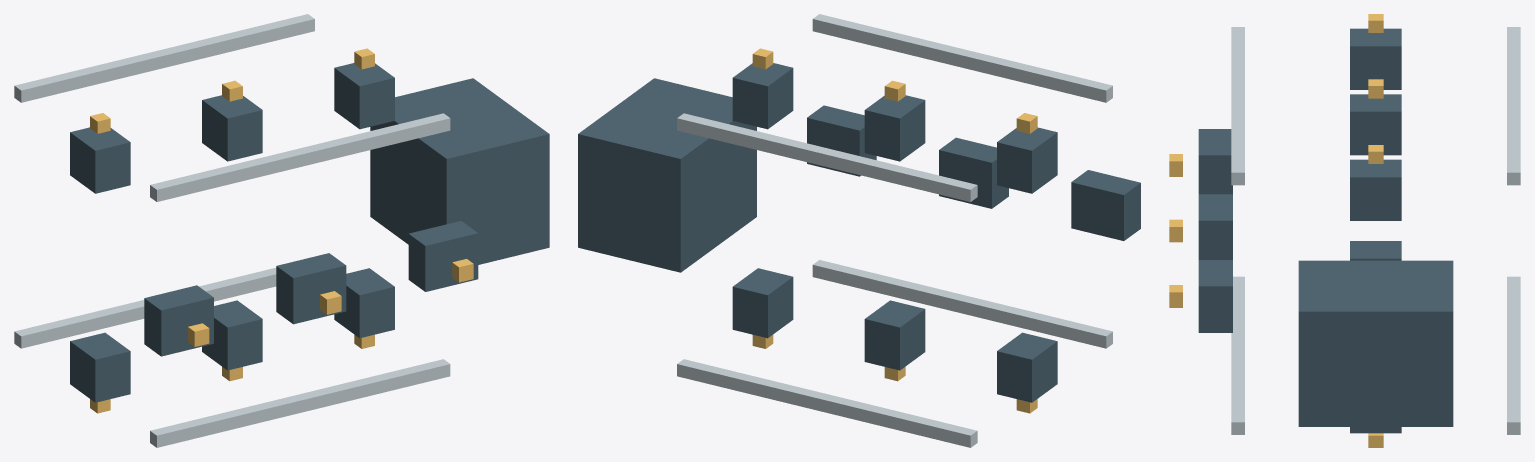
The model's file is MIST-ARRIVAL-LAG-MAP.glb.
The picture shows the model from 3 angles, left to right: view 1: azimuth 30°, elevation 25°; view 2: azimuth 150°, elevation 25°; view 3: azimuth 270°, elevation 25°; orthographic projection.
Visible parts, largest first — view 1: dark, frame, signal; view 2: dark, frame, signal; view 3: dark, frame, signal.
Part boxes in pixels (x1,y1,x2,y2): dark: [70, 63, 549, 402]; frame: [14, 14, 450, 447]; signal: [90, 48, 473, 413]; dark: [578, 63, 1140, 402]; frame: [677, 14, 1112, 447]; signal: [752, 48, 1037, 413]; dark: [1198, 28, 1453, 433]; frame: [1231, 27, 1520, 434]; signal: [1169, 14, 1383, 447].
Size of the model in its own units: 0.298 by 0.19 by 0.204.
